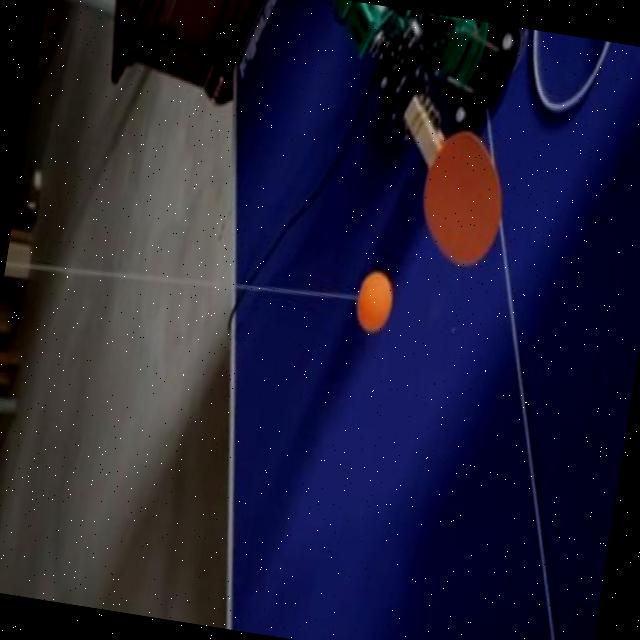ping-pong-ball: (352, 266, 397, 339)
